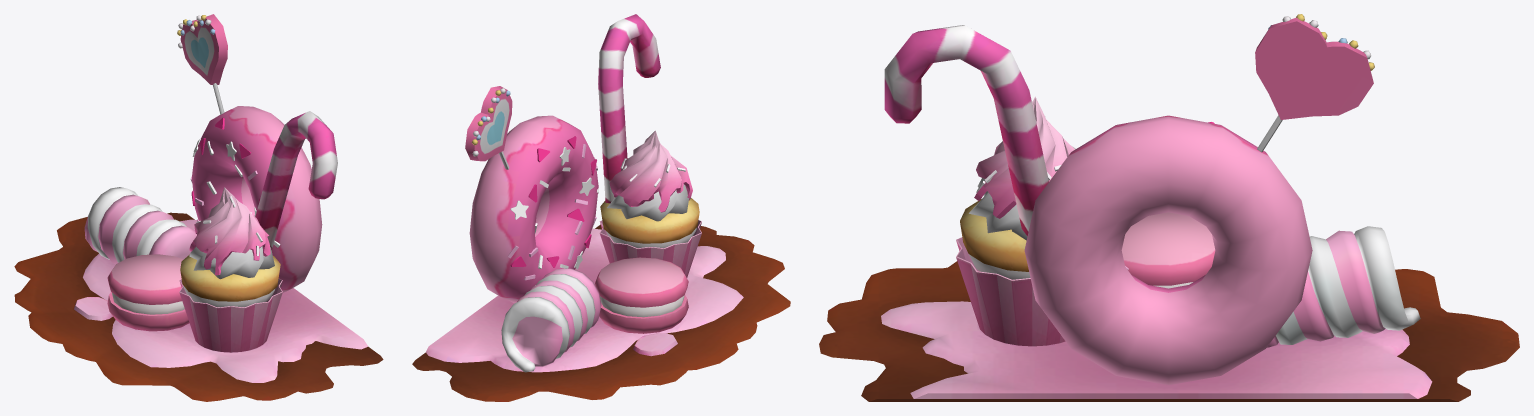
File: my_chocolatecafe_01_p_acc_04.glb
3 renders of one model, left to right at view 1: azimuth 30°, elevation 25°; view 2: azimuth 150°, elevation 25°; view 3: azimuth 270°, elevation 25°, orthographic. The views are drawn at different scales.
Visible parts, largest first — view 1: my_chocolatecafe_01_p_acc_04; view 2: my_chocolatecafe_01_p_acc_04; view 3: my_chocolatecafe_01_p_acc_04.
Boxes of the visible parts, x1,y1,x2,y2 form: my_chocolatecafe_01_p_acc_04: (14,14,383,401); my_chocolatecafe_01_p_acc_04: (412,14,790,401); my_chocolatecafe_01_p_acc_04: (819,14,1519,401).
Size of the model in its own units: 0.0111 by 0.0113 by 0.0192.
1 material, 1 textured.
